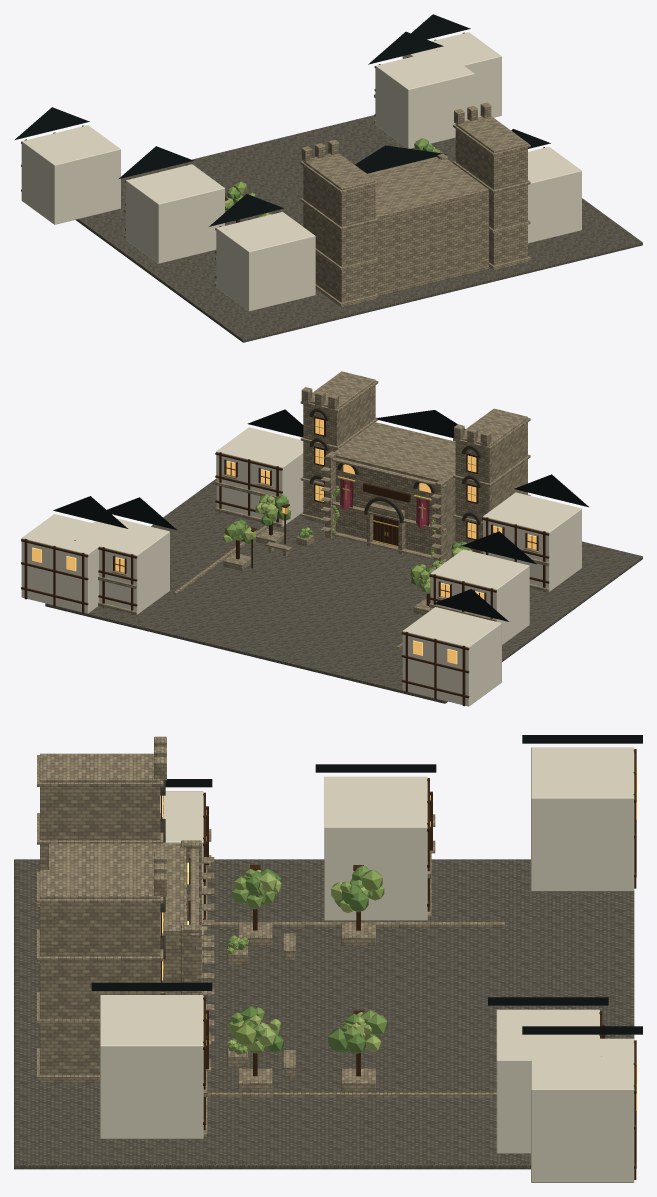
The model's file is beginnings_gate_square.glb.
3 renders of one model, top to bottom at view 1: azimuth 30°, elevation 25°; view 2: azimuth 150°, elevation 25°; view 3: azimuth 270°, elevation 25°, orthographic. The views are drawn at different scales.
Parts seen in each view (by area): view 1: Town square; view 2: Town square; view 3: Town square.
Boxes of the visible parts, box(x1,y1,x2,y2) form: Town square: box(15, 14, 642, 342); Town square: box(21, 371, 642, 706); Town square: box(14, 735, 642, 1182).
Bounding box in the file's own units: 48 × 13.4 × 36.5.
Materials: 13 (5 with a texture image).
